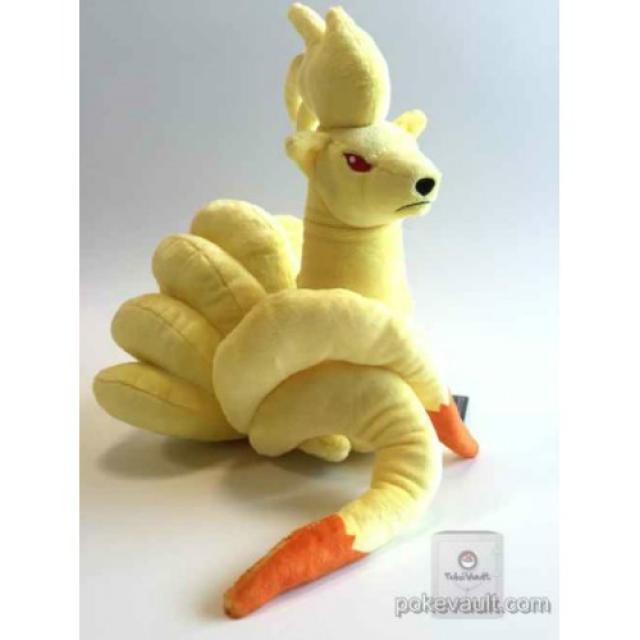Ninetales: (102, 0, 472, 467)
